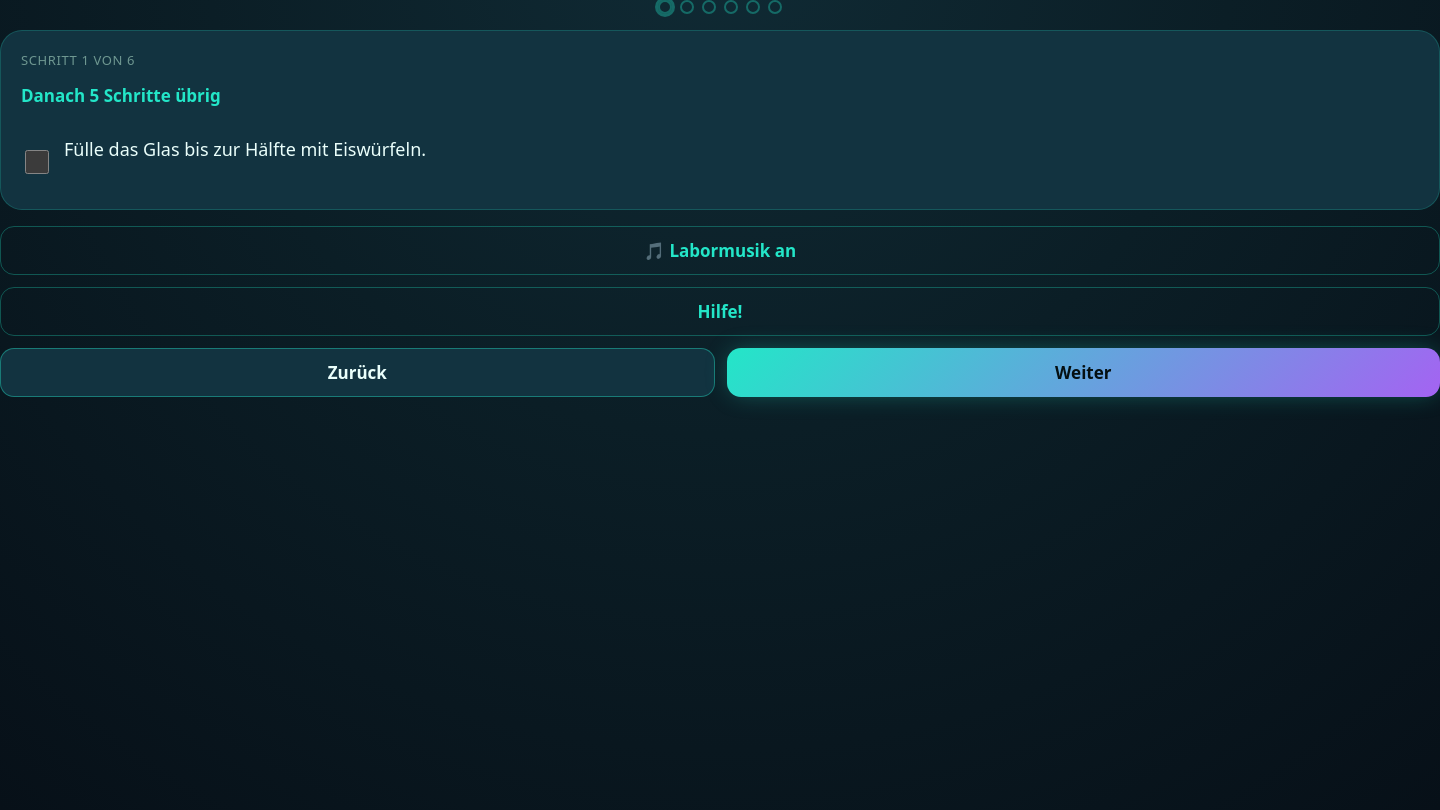
Scenario: StepRunner › zeigt bei Hilfe den zur Mission bzw. zum Schritt passenden Tipp
This screenshot has width=1440, height=810.
Step 1. Click the button "Hilfe!" → [720, 312], box [0,287,1439,336]
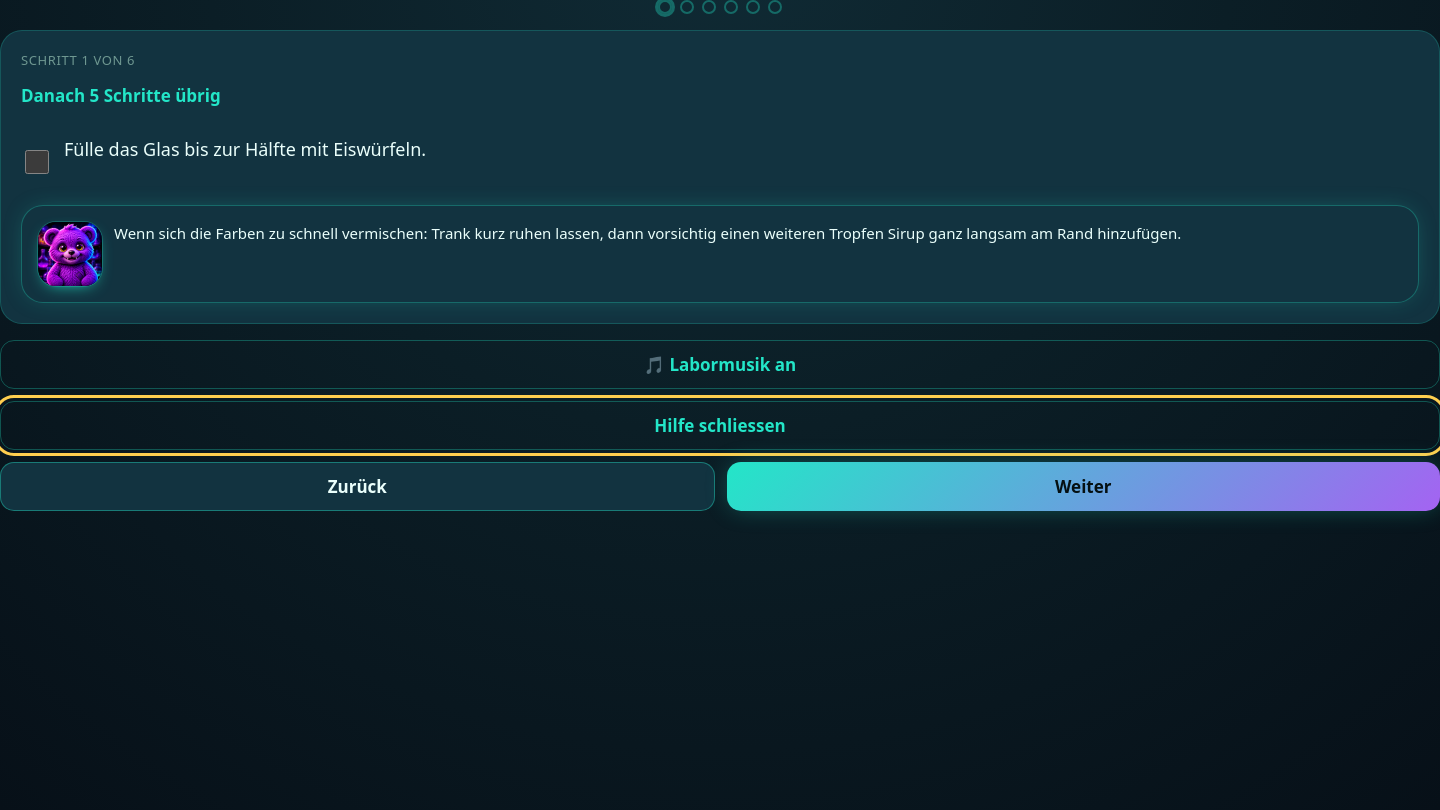
Result: the text "Wenn sich die Farben zu schnell vermischen: Trank kurz ruhen lassen, dann vorsichtig einen weiteren Tropfen Sirup ganz l" is shown at [114,223,1181,243]
